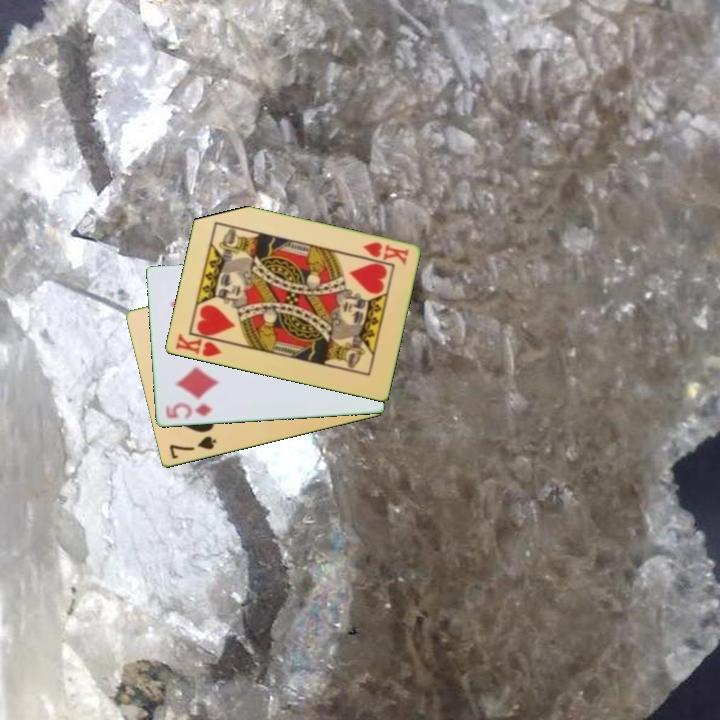5d: (162, 399, 215, 422)
7s: (166, 433, 219, 462)
Kh: (171, 330, 229, 360), (359, 239, 411, 267)
